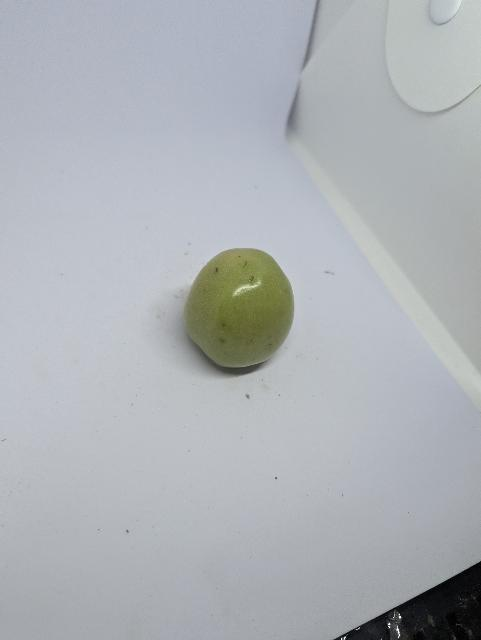green: (184, 245, 296, 372)
